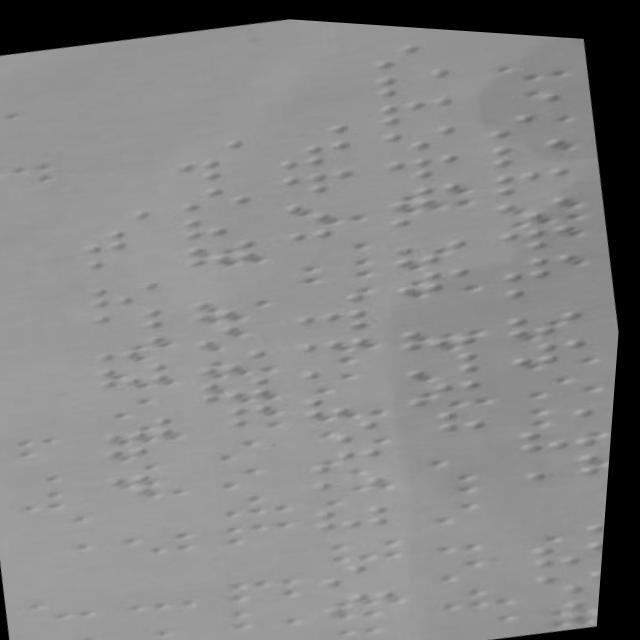braiile: (177, 224, 274, 274), (484, 178, 583, 226), (488, 209, 587, 255), (187, 280, 279, 328), (375, 139, 468, 186), (326, 577, 418, 624), (507, 323, 603, 368), (492, 238, 585, 284), (503, 294, 598, 339), (191, 366, 283, 412), (389, 251, 479, 298), (381, 198, 477, 242), (276, 186, 372, 230), (379, 168, 472, 213), (404, 363, 494, 409), (271, 157, 364, 201), (294, 324, 386, 368), (75, 217, 166, 261), (101, 433, 189, 478), (525, 522, 611, 568), (305, 378, 394, 422), (387, 224, 474, 269), (483, 126, 573, 169), (280, 211, 369, 254), (486, 153, 574, 196), (293, 296, 385, 337), (370, 57, 455, 101), (529, 551, 610, 597), (168, 145, 256, 187), (193, 312, 277, 356), (305, 436, 395, 477), (314, 464, 399, 507), (268, 131, 355, 173), (325, 550, 411, 592), (98, 352, 180, 396), (369, 28, 454, 70), (301, 354, 386, 396), (375, 86, 458, 129), (179, 202, 266, 243), (78, 247, 165, 288), (84, 274, 171, 315), (481, 97, 564, 139), (316, 493, 399, 535), (178, 176, 259, 219), (505, 269, 586, 310), (379, 114, 461, 154), (327, 630, 414, 640)
